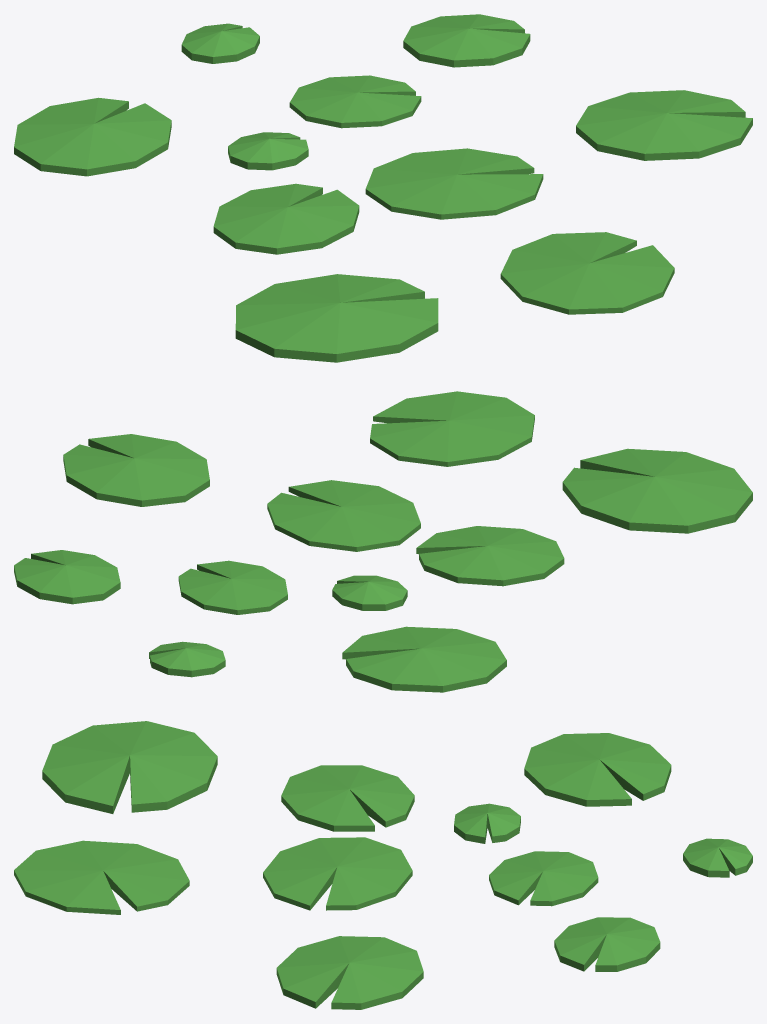
Rendered from lily_pads_wide.glb.
3 views of the same model, one above another, from view 1: azimuth 30°, elevation 25°; view 2: azimuth 150°, elevation 25°; view 3: azimuth 270°, elevation 25° (orthographic). The views are drawn at different scales.
Parts seen in each view (by area): view 1: Water Lily Multi_2_C; view 2: Water Lily Multi_2_C; view 3: Water Lily Multi_2_C.
Boxes of the visible parts, x1,y1,x2,y2 form: Water Lily Multi_2_C: (14, 14, 752, 362); Water Lily Multi_2_C: (14, 391, 752, 692); Water Lily Multi_2_C: (14, 721, 752, 1009).
Bounding box in the file's own units: 1.34 × 0.04 × 1.49.
Materials: 1 (1 with a texture image).
